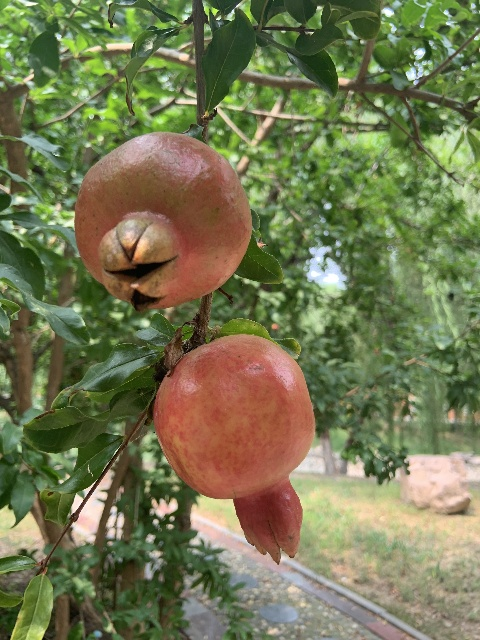ripe: (153, 333, 316, 563), (73, 132, 252, 310)
